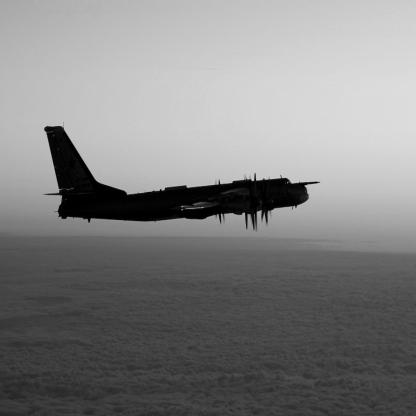Tu95: (43, 122, 322, 234)
